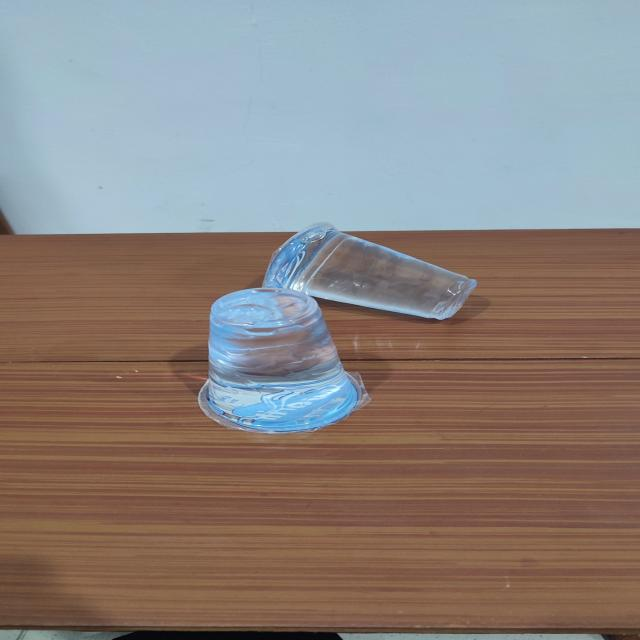air gelas: (181, 284, 381, 436), (247, 221, 509, 329)
